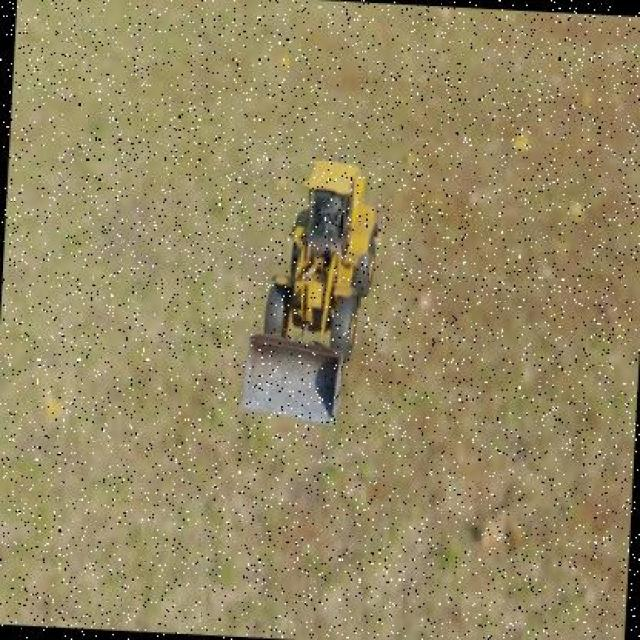buldozerpayloadergrader: (236, 149, 382, 428)
